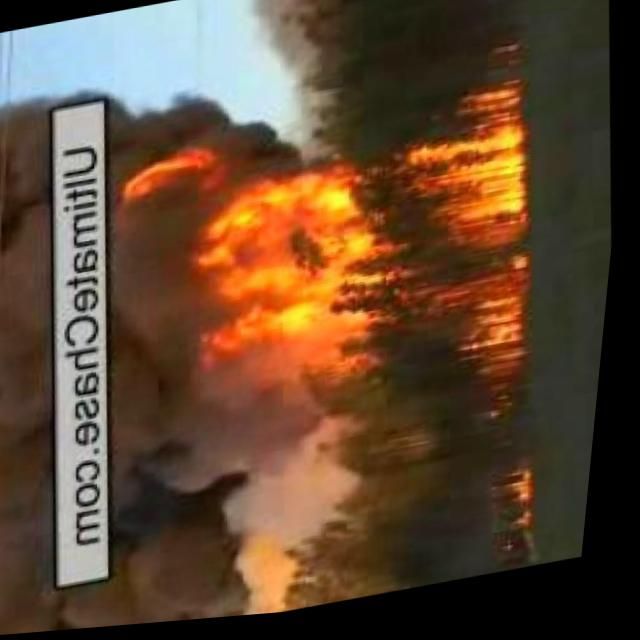Fire: (103, 124, 389, 407), (378, 88, 562, 421), (494, 465, 553, 554)
